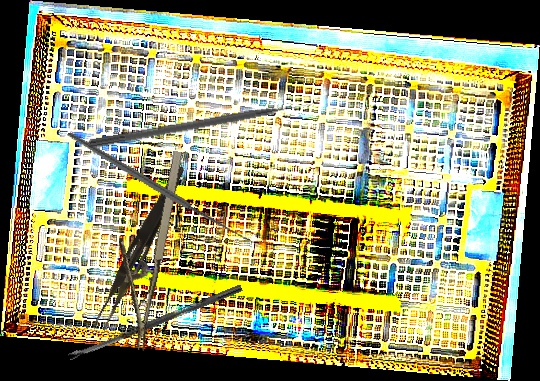Dressing Forceps: (92, 161, 188, 334)
Hook Surgical: (64, 75, 261, 294)
Needle Holder: (95, 143, 190, 351)
Pusher: (87, 99, 316, 151)
Surgical Spoon: (67, 283, 243, 361)
